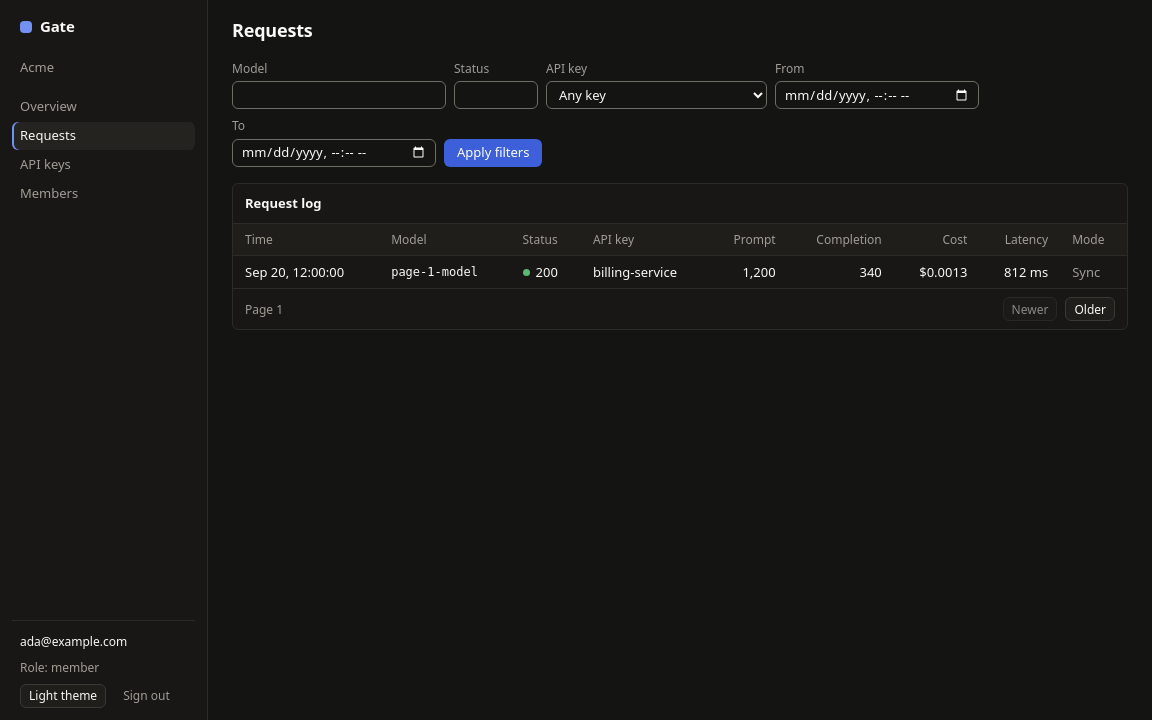
Test case: requests: pagination › pages older by cursor and back to newer
The image size is (1152, 720).
Expected: the text "page-1-model" is shown, top-left (379, 256), bottom-right (511, 288)
Expected: the button "Newer" is disabled, top-left (1003, 297), bottom-right (1057, 321)
Step 1. Click the button "Older" → (1090, 309), box top-left (1065, 297), bottom-right (1115, 321)
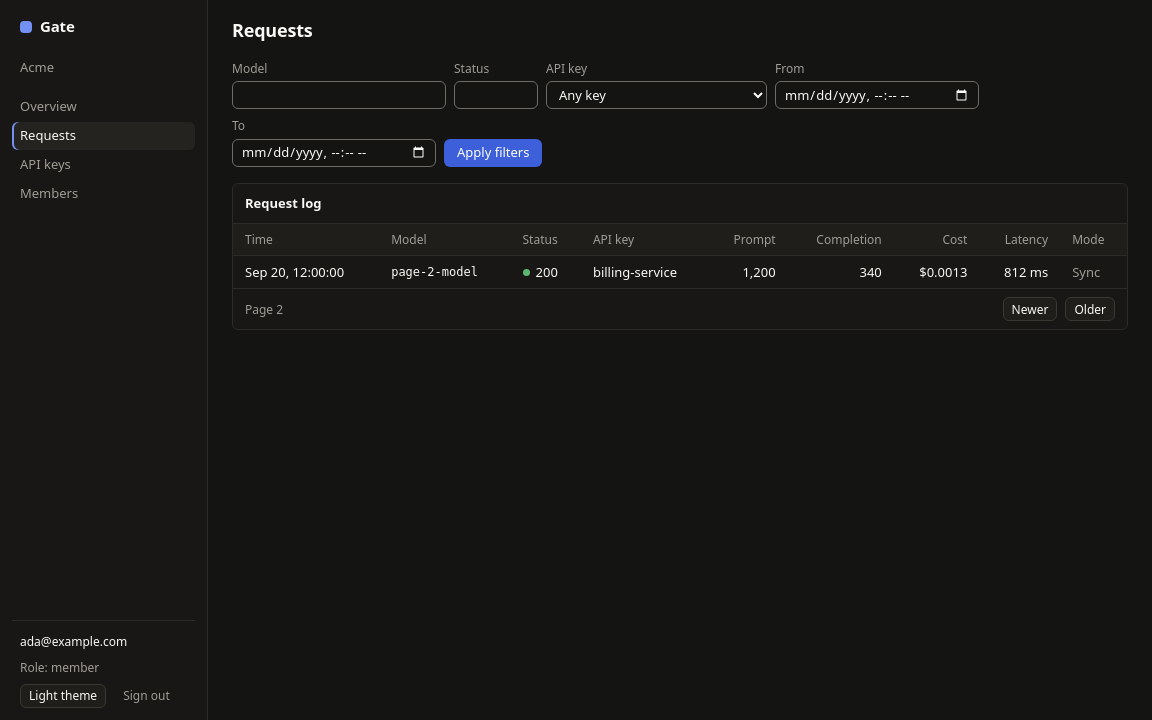
Expected: the text "page-2-model" is shown, top-left (379, 256), bottom-right (511, 288)
Expected: the text "Page 2" is shown, top-left (245, 301), bottom-right (283, 318)
Step 2. Click the button "Older" → (1090, 309), box top-left (1065, 297), bottom-right (1115, 321)
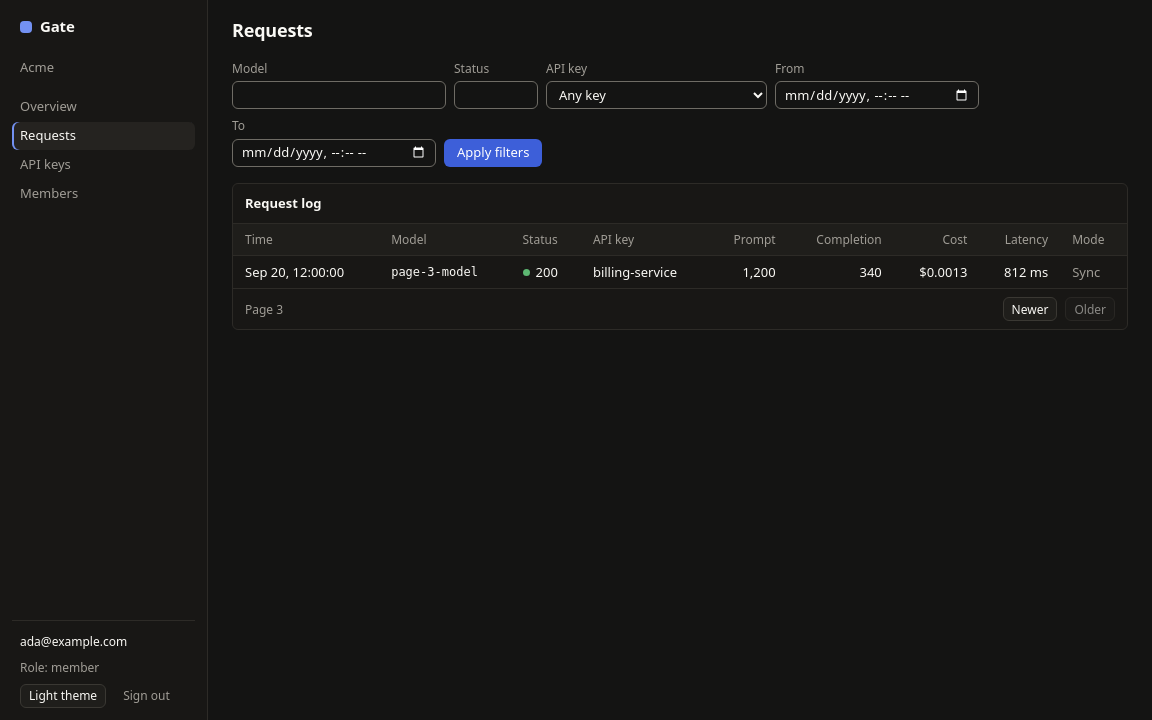
Expected: the text "page-3-model" is shown, top-left (379, 256), bottom-right (511, 288)
Expected: the button "Older" is disabled, top-left (1065, 297), bottom-right (1115, 321)
Step 3. Click the button "Newer" → (1030, 309), box top-left (1003, 297), bottom-right (1057, 321)
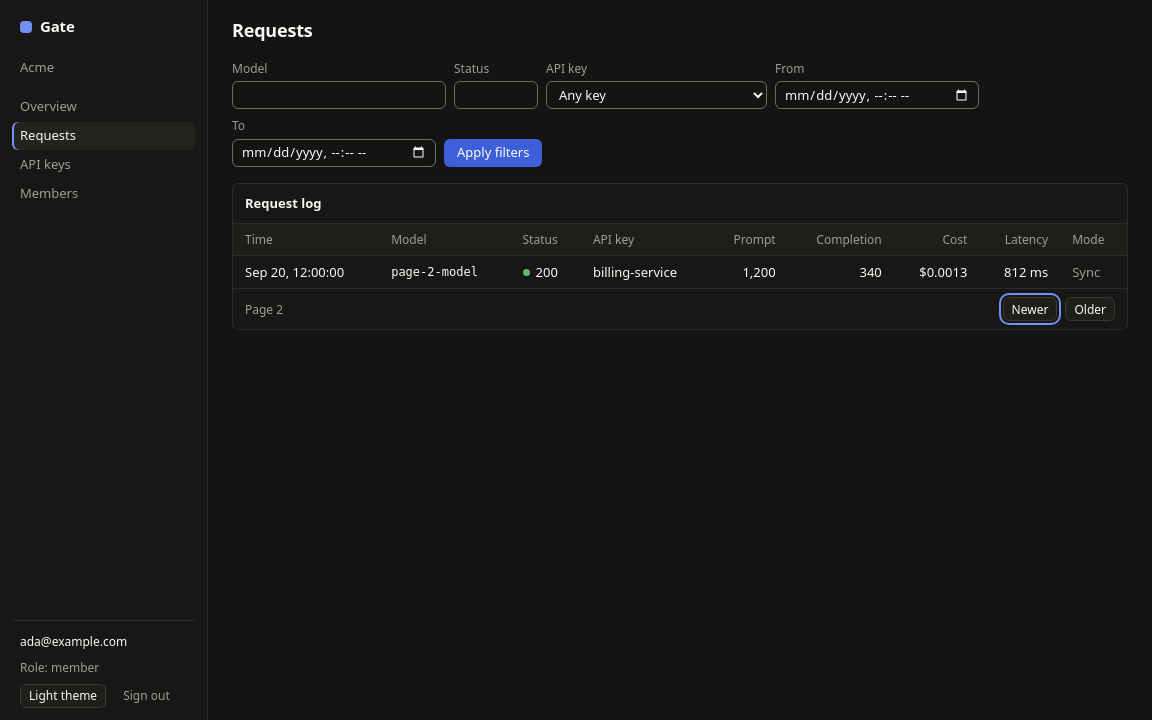
Expected: the text "page-2-model" is shown, top-left (379, 256), bottom-right (511, 288)
Expected: the text "Page 2" is shown, top-left (245, 301), bottom-right (283, 318)
